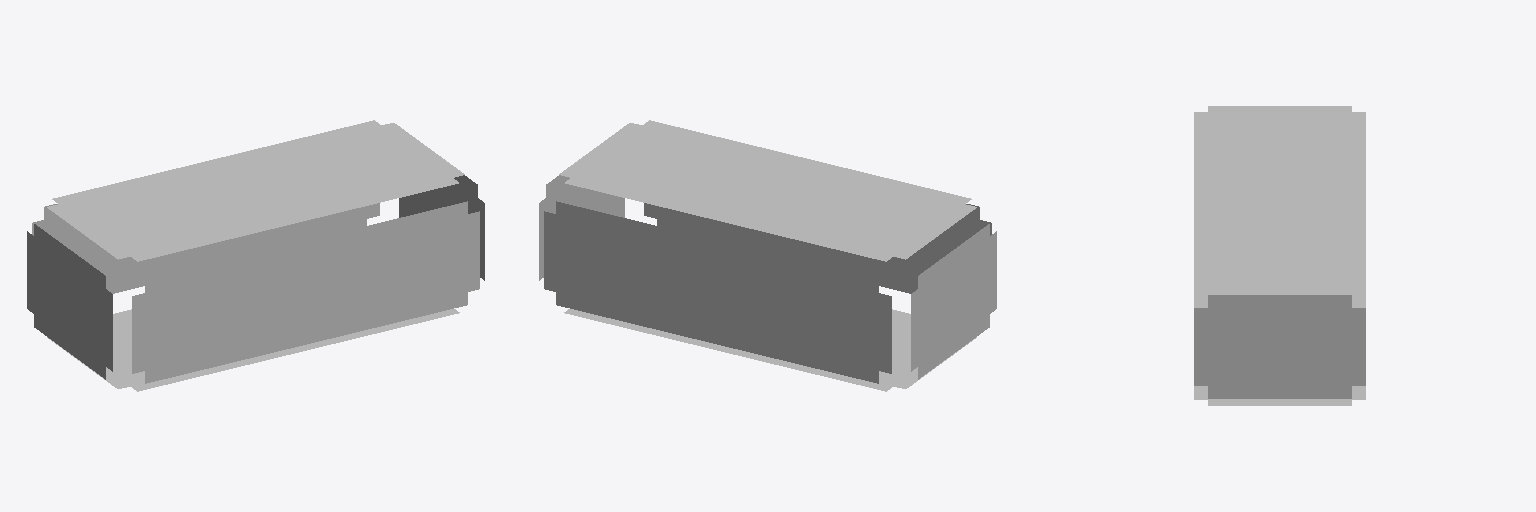
Rendered from reinforced_chest_large.obj.
The picture shows the model from 3 angles: view 1: azimuth 30°, elevation 25°; view 2: azimuth 150°, elevation 25°; view 3: azimuth 270°, elevation 25°; orthographic projection.
Parts seen in each view (by area): view 1: reinforced_chest_large; view 2: reinforced_chest_large; view 3: reinforced_chest_large.
Part boxes in pixels (x1,y1,x2,y2): reinforced_chest_large: (27,120,484,391); reinforced_chest_large: (539,120,996,391); reinforced_chest_large: (1194,106,1365,405).
Size of the model in its own units: 1.88 by 0.625 by 0.875.